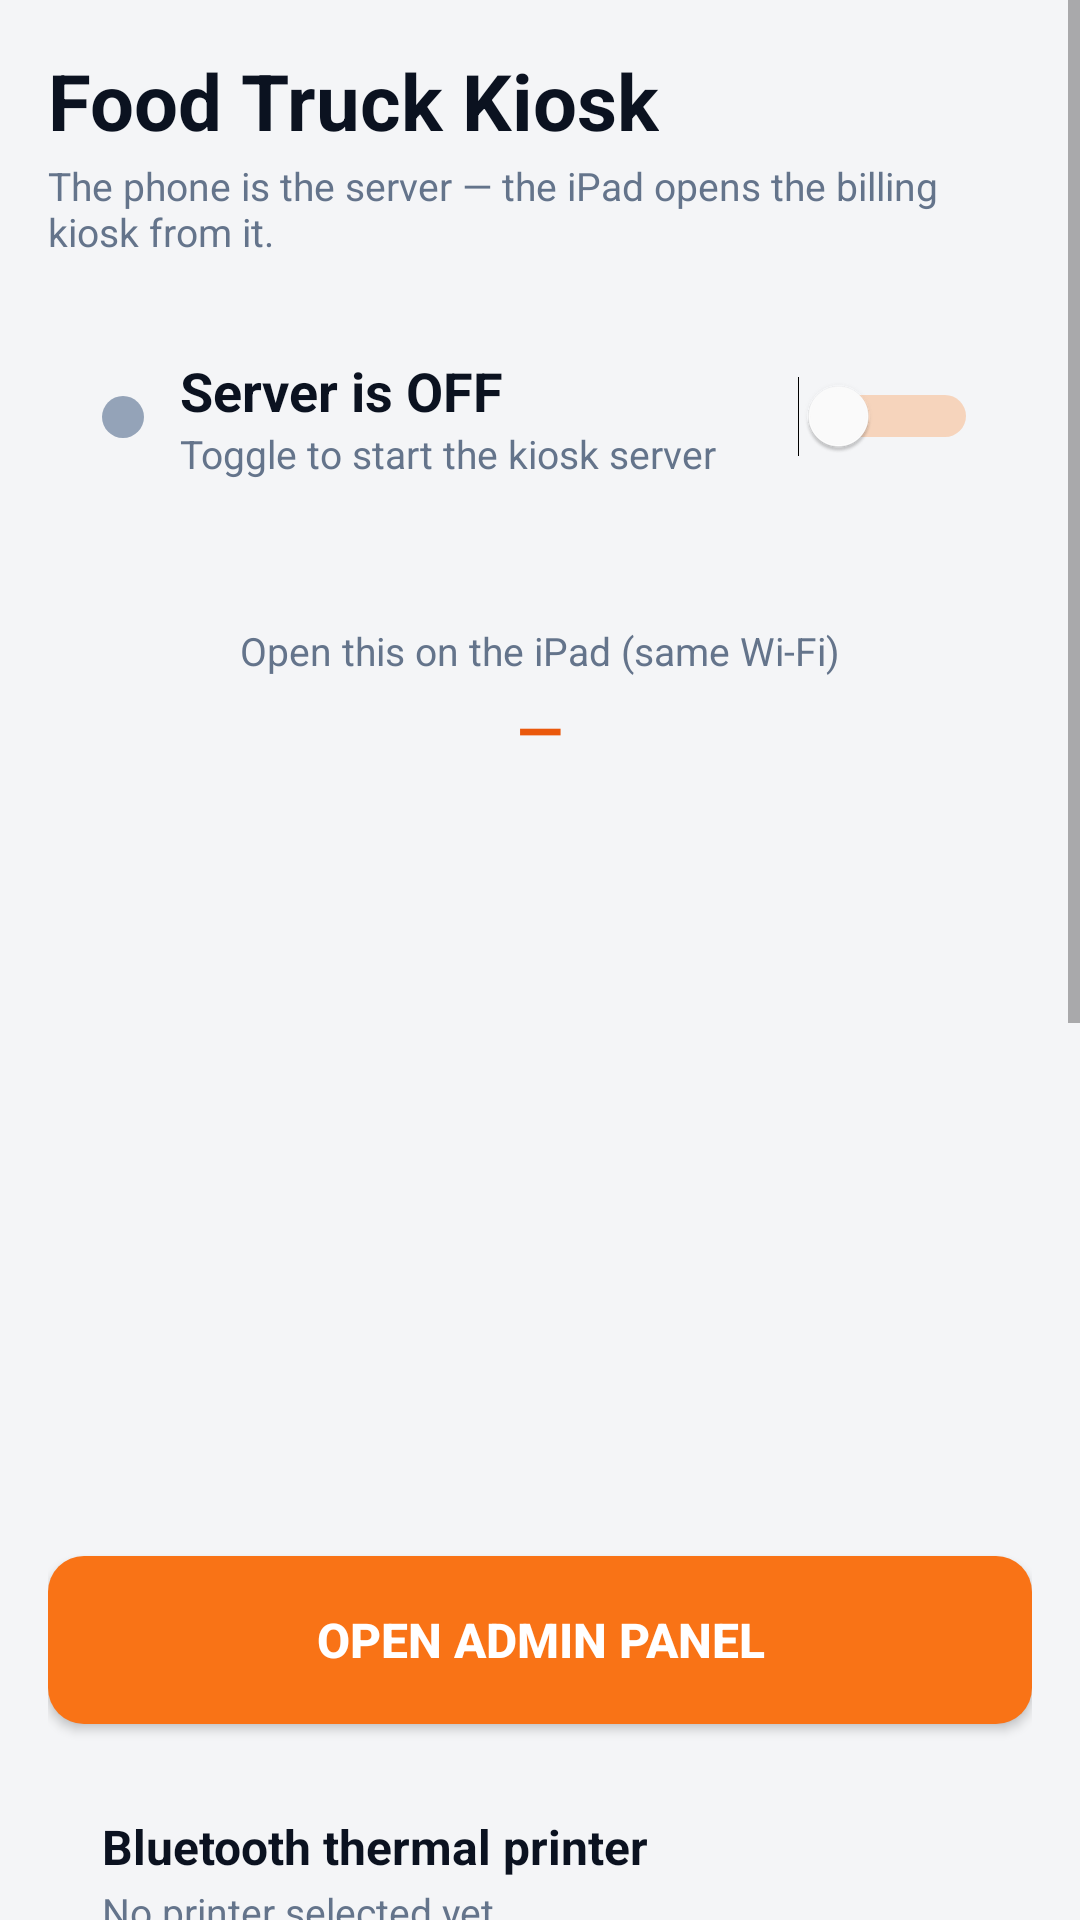

Locate icon controls on the screen. Image size 1080*1920, boxes as (x1, y1, x2, y2).
dot off: (102, 396, 144, 438)
